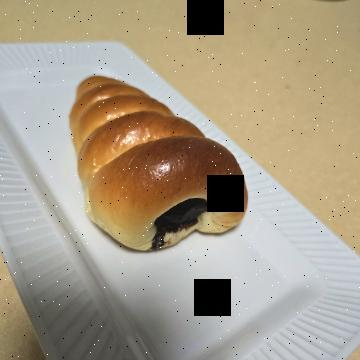cream horn: (61, 113, 282, 312)
